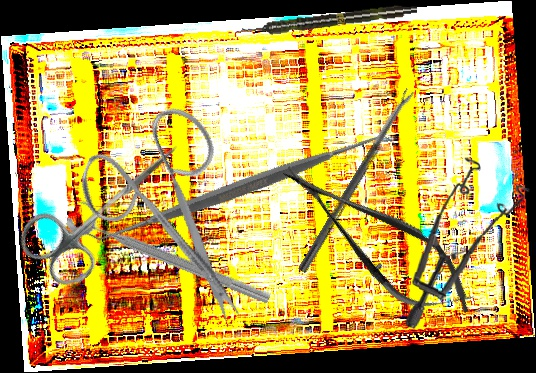Fixation Ring: (64, 195, 278, 311)
Handpiece: (241, 1, 418, 39)
Iris Scissors: (51, 84, 304, 328), (10, 113, 202, 298)
Micro Scissor: (266, 139, 490, 339)
Spatula Surgical: (82, 29, 397, 347)
Speculum: (403, 152, 533, 337)
Surgical Spoon: (297, 87, 416, 275)
